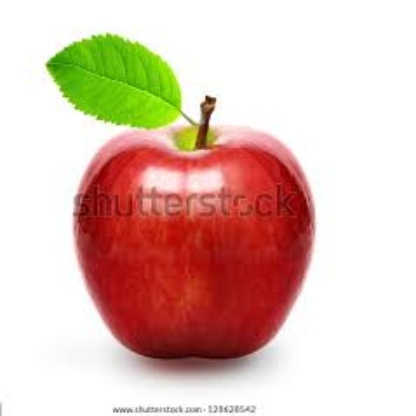tao: (64, 95, 306, 361)
